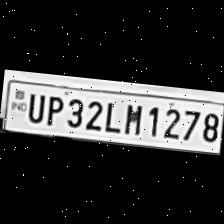1: (142, 101, 162, 137)
2: (158, 102, 183, 140), (82, 95, 106, 131)
3: (62, 92, 84, 128)
7: (177, 105, 200, 141)
8: (197, 107, 221, 143)
L: (100, 97, 121, 133)
M: (118, 99, 145, 136)
P: (41, 90, 63, 125)
U: (22, 89, 46, 123)
